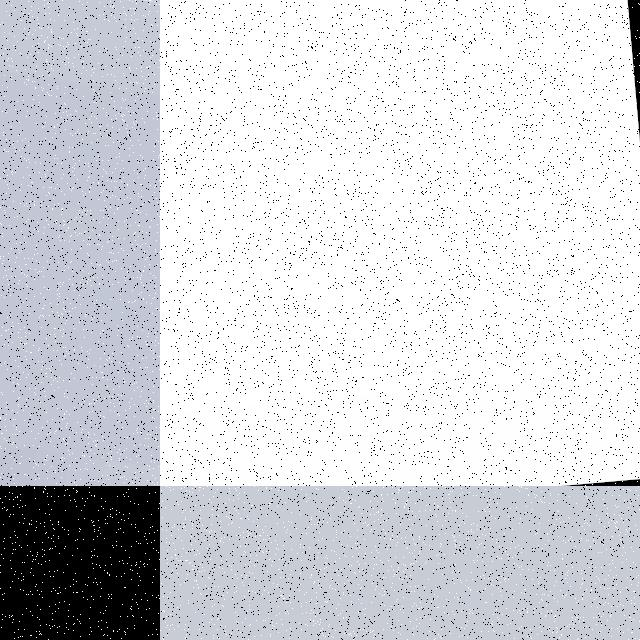drone: (0, 0, 160, 486)
